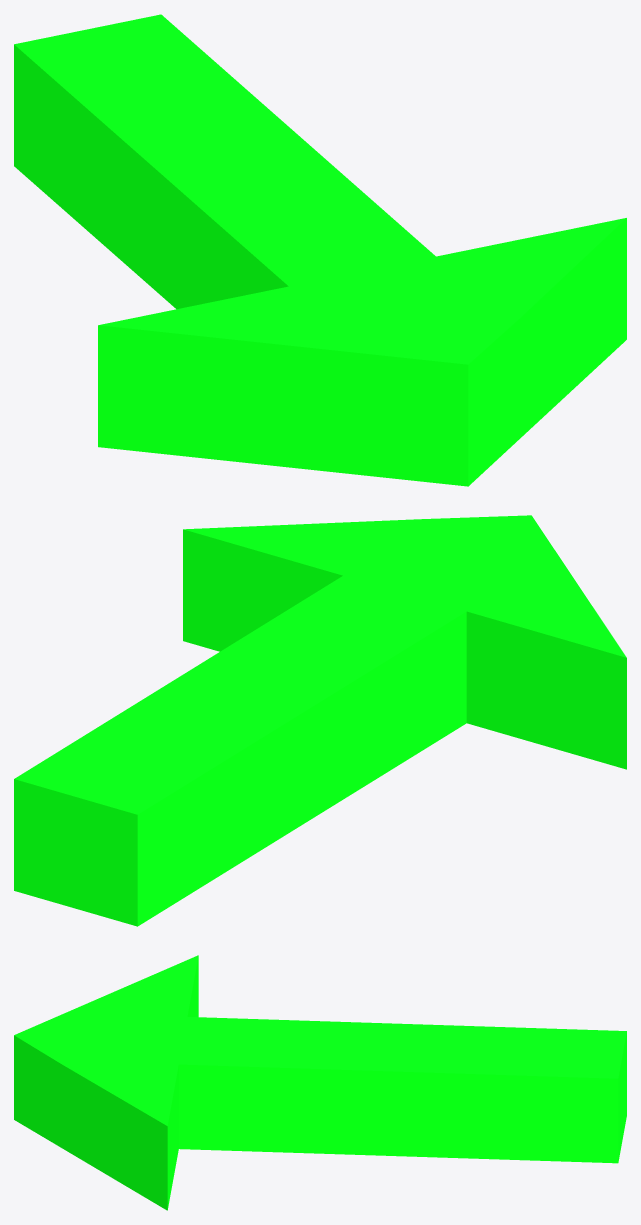
File: arrow.glb
3 renders of one model, top to bottom at view 1: azimuth 30°, elevation 25°; view 2: azimuth 150°, elevation 25°; view 3: azimuth 270°, elevation 25°, orthographic. The views are drawn at different scales.
Parts seen in each view (by area): view 1: Circle.003; view 2: Circle.003; view 3: Circle.003.
Boxes of the visible parts, x1,y1,x2,y2 form: Circle.003: (14, 14, 626, 486); Circle.003: (14, 515, 626, 926); Circle.003: (14, 955, 626, 1210).
Size of the model in its own units: 0.8959 by 0.2065 by 1.35.
